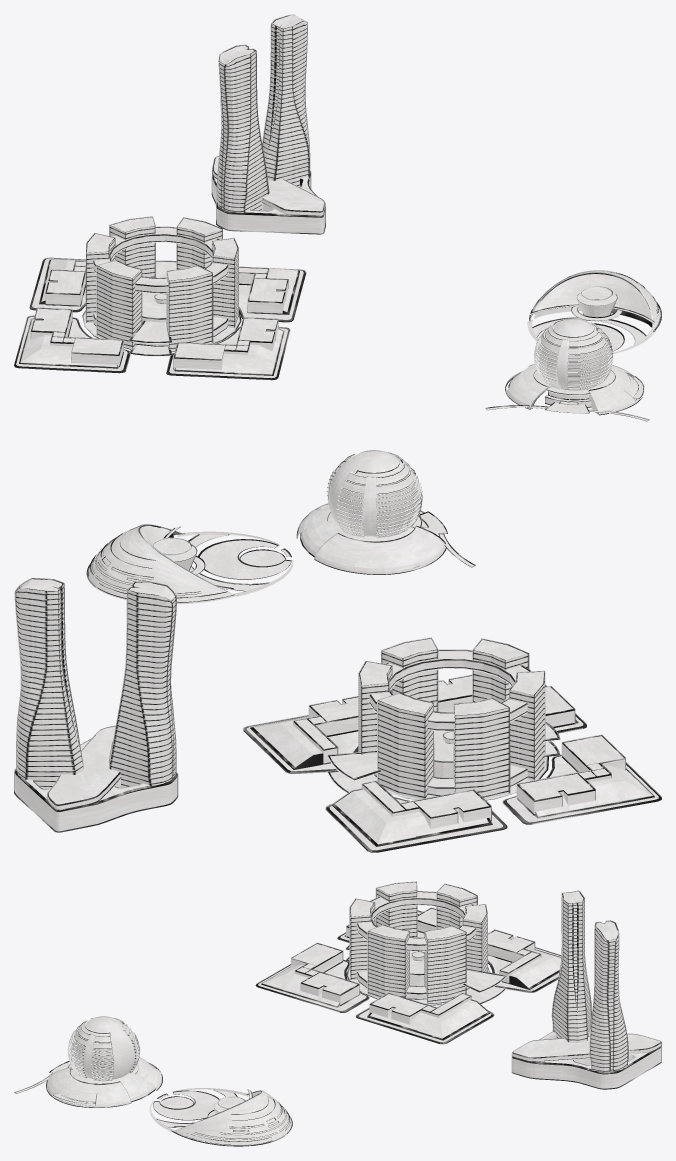
The model's file is SM_ChengShiYangTai.glb.
3 views of the same model, one above another, from view 1: azimuth 30°, elevation 25°; view 2: azimuth 150°, elevation 25°; view 3: azimuth 270°, elevation 25° (orthographic). The views are drawn at different scales.
Parts seen in each view (by area): view 1: SM_ZhouJiJiuDian2, SM_ZhouJiJiuDian3, SM_zhoujijiudian.001, SM_ZhouJiJiuDian1; view 2: SM_ZhouJiJiuDian2, SM_ZhouJiJiuDian3, SM_zhoujijiudian.001, SM_ZhouJiJiuDian1; view 3: SM_ZhouJiJiuDian2, SM_ZhouJiJiuDian3, SM_zhoujijiudian.001, SM_ZhouJiJiuDian1.
Part boxes in pixels (box(x1,y1,x2,y2)): SM_ZhouJiJiuDian2: box(14, 216, 306, 380); SM_ZhouJiJiuDian3: box(211, 14, 325, 234); SM_zhoujijiudian.001: box(485, 318, 649, 421); SM_ZhouJiJiuDian1: box(527, 270, 661, 353); SM_ZhouJiJiuDian2: box(243, 637, 661, 852); SM_ZhouJiJiuDian3: box(14, 578, 178, 832); SM_zhoujijiudian.001: box(296, 450, 475, 574); SM_ZhouJiJiuDian1: box(86, 524, 293, 604); SM_ZhouJiJiuDian2: box(255, 881, 561, 1044); SM_ZhouJiJiuDian3: box(511, 890, 661, 1089); SM_zhoujijiudian.001: box(14, 1016, 162, 1107); SM_ZhouJiJiuDian1: box(149, 1088, 292, 1146).
Size of the model in its own units: 843 by 250 by 954.
Materials: 2 (1 with a texture image).
